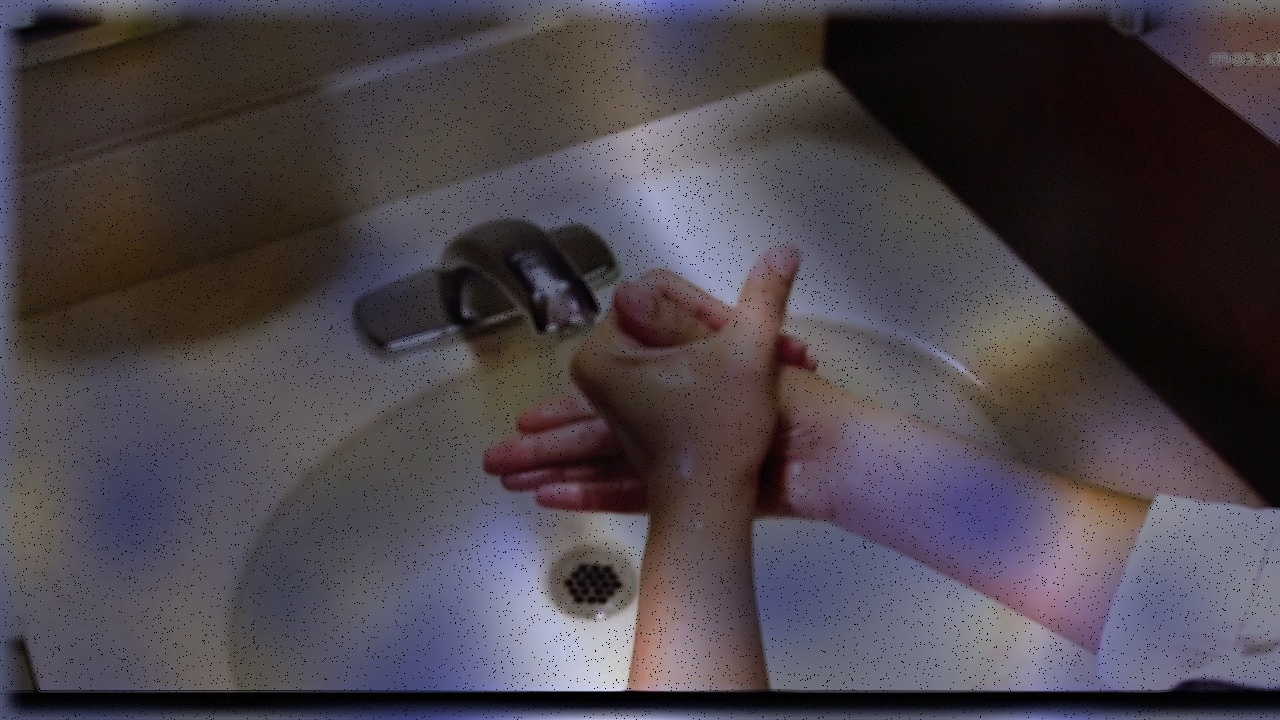washing hand: (307, 166, 829, 624)
